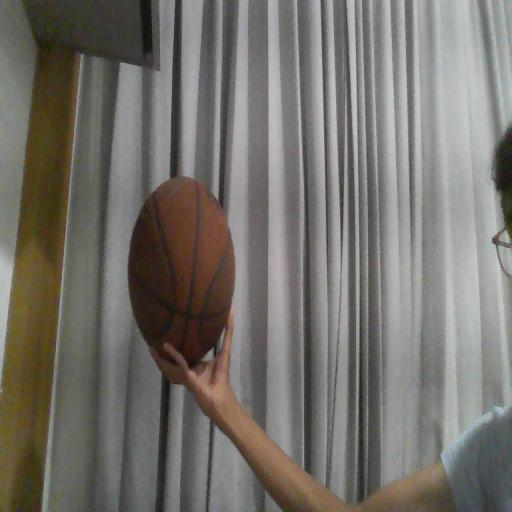basketball: (128, 178, 234, 366)
